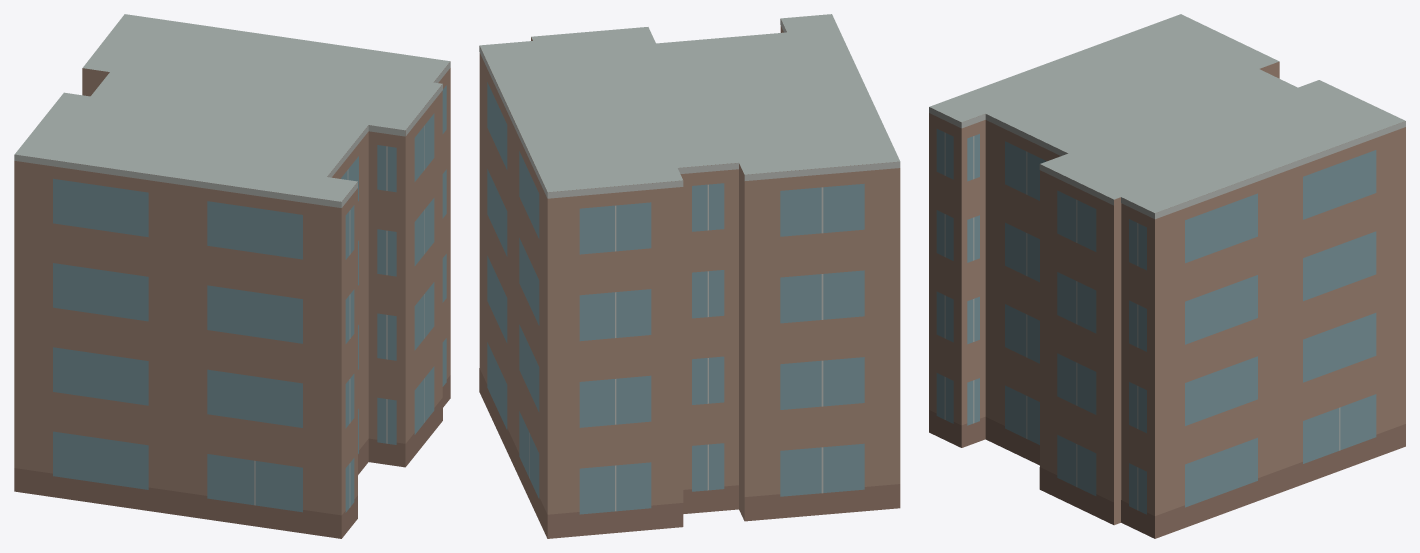
Rendered from survey-upis-32698175.glb.
The picture shows the model from 3 angles, left to right: view 1: azimuth 30°, elevation 25°; view 2: azimuth 150°, elevation 25°; view 3: azimuth 270°, elevation 25°; orthographic projection. The views are drawn at different scales.
Parts seen in each view (by area): view 1: survey-upis-32698175.tmp; view 2: survey-upis-32698175.tmp; view 3: survey-upis-32698175.tmp.
Boxes of the visible parts, x1,y1,x2,y2 form: survey-upis-32698175.tmp: [14, 14, 450, 538]; survey-upis-32698175.tmp: [479, 14, 900, 538]; survey-upis-32698175.tmp: [929, 14, 1405, 538].
Size of the model in its own units: 17.17 by 13.08 by 17.36.
